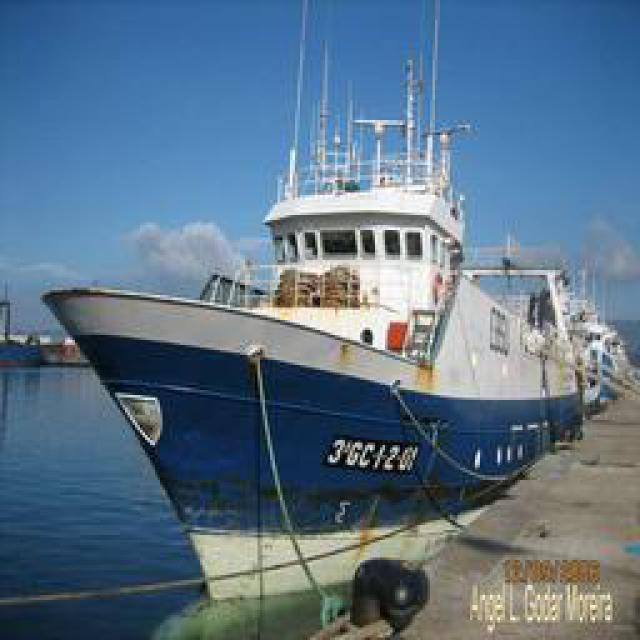Ship: (34, 11, 607, 594)
